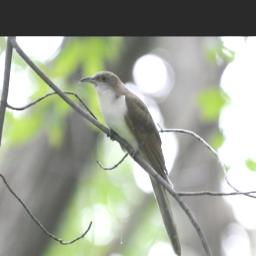Cuckoo: (79, 68, 186, 256)
